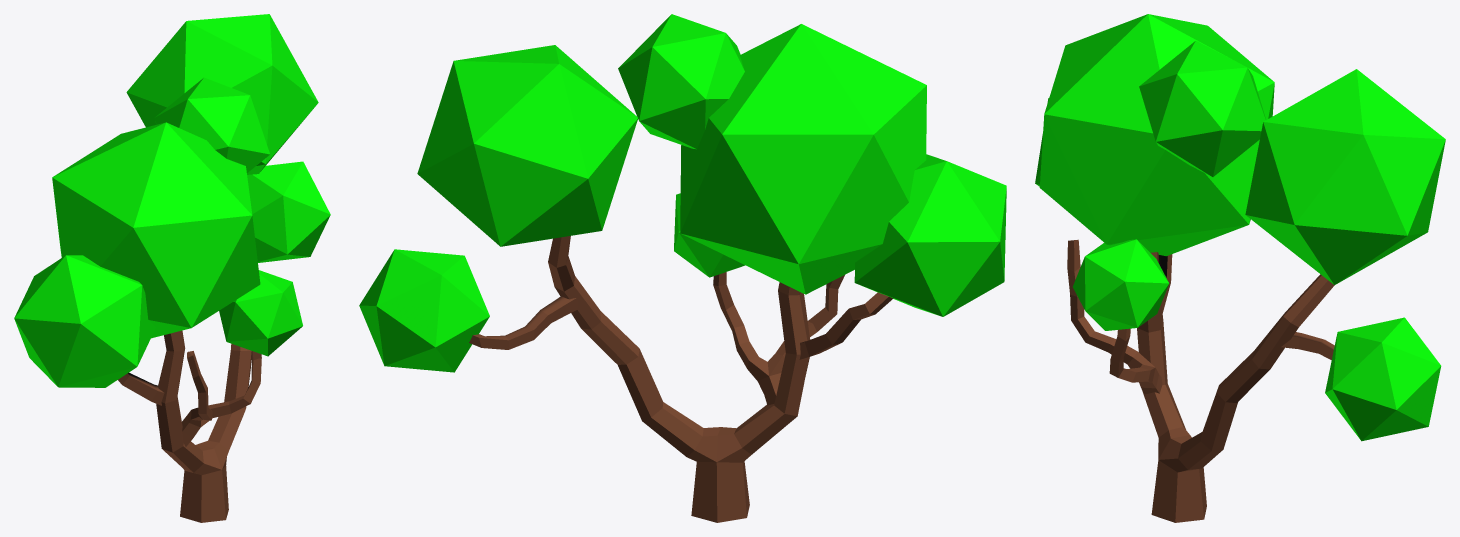
File: Tree.fbx
The picture shows the model from 3 angles, left to right: view 1: azimuth 30°, elevation 25°; view 2: azimuth 150°, elevation 25°; view 3: azimuth 270°, elevation 25°; orthographic projection. The views are drawn at different scales.
Visible parts, largest first — view 1: Tree_lp_11; view 2: Tree_lp_11; view 3: Tree_lp_11.
Part boxes in pixels (x1=…): Tree_lp_11: x1=14, y1=14, x2=330, y2=522; Tree_lp_11: x1=359, y1=14, x2=1006, y2=522; Tree_lp_11: x1=1035, y1=14, x2=1445, y2=522.
Size of the model in its own units: 2798 by 2654 by 2080.
